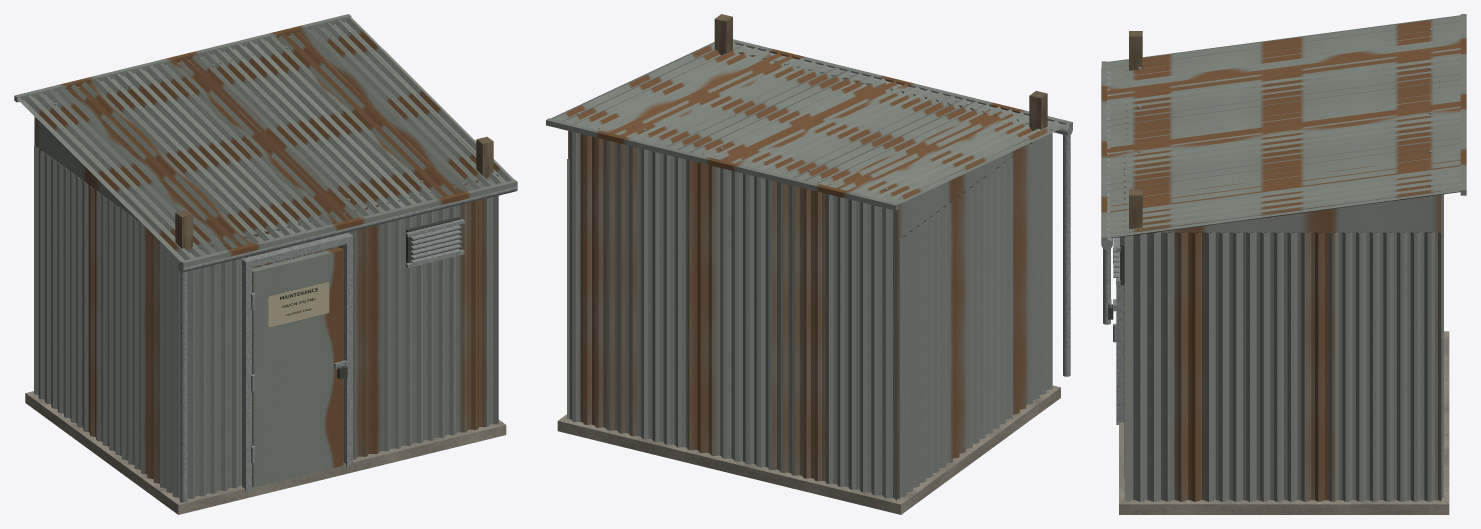
Rendered from SM_SubstationSite_Shed.glb.
The picture shows the model from 3 angles, left to right: view 1: azimuth 30°, elevation 25°; view 2: azimuth 150°, elevation 25°; view 3: azimuth 270°, elevation 25°; orthographic projection. The views are drawn at different scales.
Parts seen in each view (by area): view 1: SM_SubstationSite_Shed; view 2: SM_SubstationSite_Shed; view 3: SM_SubstationSite_Shed.
Part boxes in pixels (<box>): SM_SubstationSite_Shed: <box>14,14,517,514</box>; SM_SubstationSite_Shed: <box>546,14,1072,514</box>; SM_SubstationSite_Shed: <box>1101,14,1466,514</box>.
Size of the model in its own units: 3.18 by 2.75 by 2.79.
7 materials, 6 textured.
